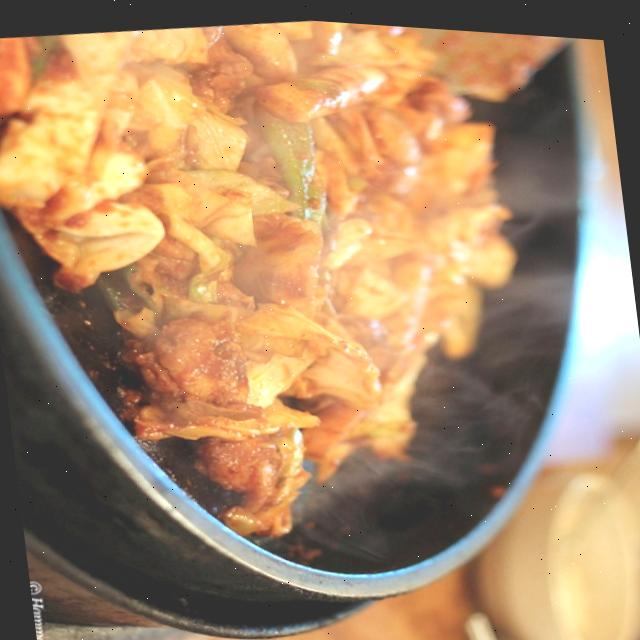鸡肉料理 含炸鸡: (0, 0, 613, 616)
